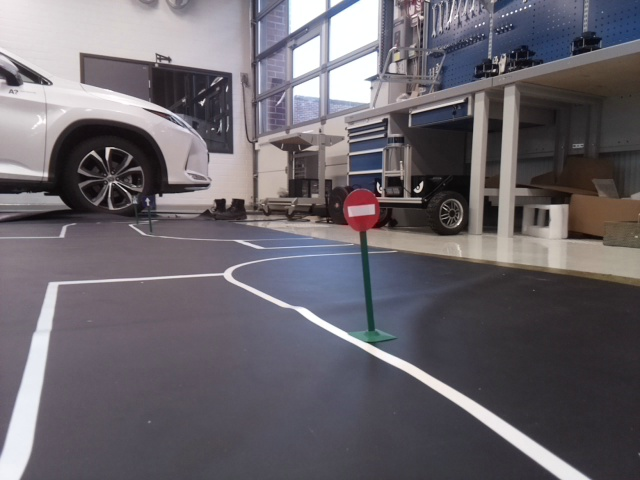NoEntry: (344, 187, 382, 230)
OneWay: (141, 194, 154, 208)
